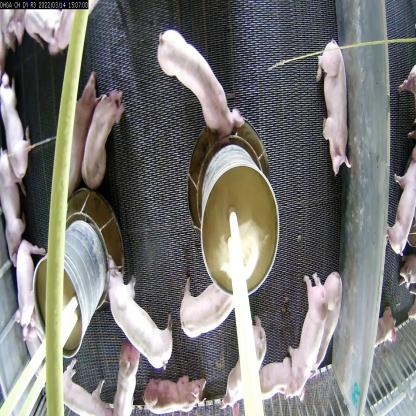Pig: (154, 26, 243, 142), (108, 259, 176, 375), (292, 267, 347, 403), (314, 48, 356, 184), (177, 256, 239, 346), (215, 306, 267, 412), (54, 78, 100, 186), (0, 70, 45, 180), (80, 94, 126, 182), (18, 238, 50, 351), (0, 161, 26, 258), (144, 378, 206, 416), (267, 356, 309, 402)
